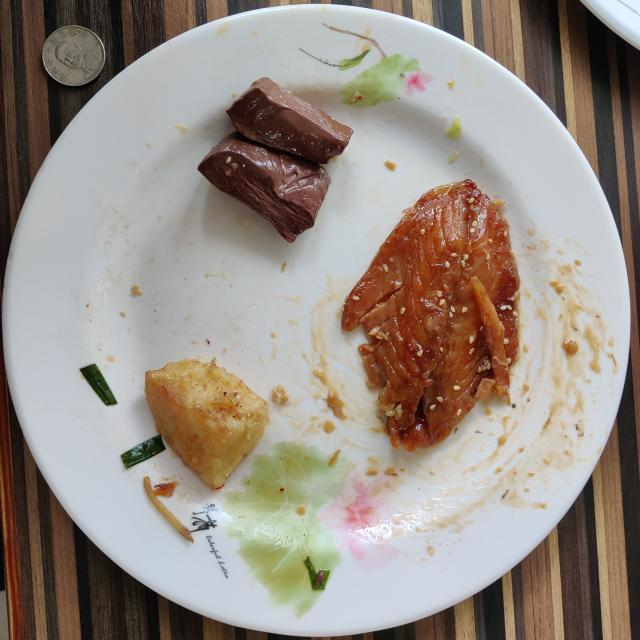Kabayaki sea bream fillet: (341, 180, 519, 451)
coin: (42, 26, 105, 86)
fried potato: (145, 358, 270, 489)
pig blood curd: (198, 78, 352, 242)
